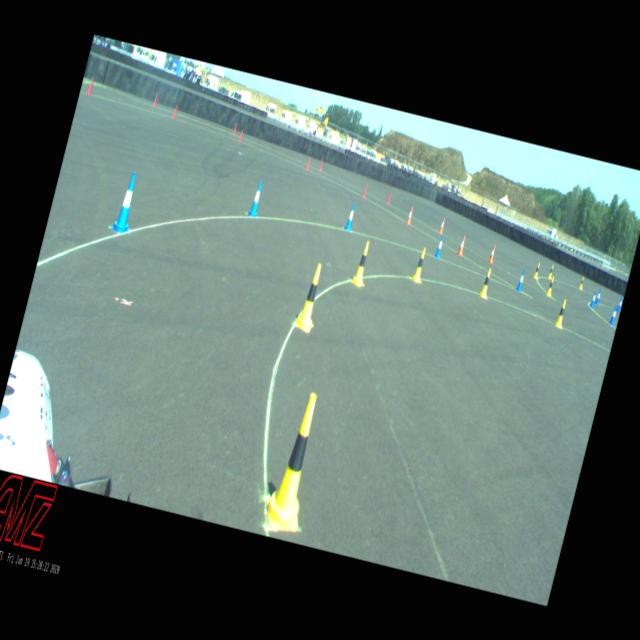blue_cone: (110, 170, 142, 234), (247, 178, 264, 218), (344, 202, 356, 230), (515, 268, 526, 292), (434, 234, 444, 258), (608, 304, 618, 326), (589, 290, 597, 308), (616, 296, 624, 312), (594, 288, 602, 304)
orange_cone: (456, 234, 466, 256), (488, 244, 497, 264), (406, 207, 414, 224), (438, 217, 446, 233)
unknown_cone: (86, 77, 95, 95), (362, 184, 368, 198), (152, 92, 158, 106), (238, 128, 244, 142), (172, 105, 178, 118), (304, 157, 310, 170), (386, 191, 391, 204), (318, 158, 323, 171), (232, 122, 237, 134)
yellow_cone: (260, 388, 330, 535), (294, 262, 326, 334), (350, 239, 373, 287), (411, 246, 428, 282), (478, 266, 493, 298), (554, 298, 568, 328), (546, 276, 556, 297), (532, 262, 540, 278), (547, 264, 554, 278), (578, 276, 585, 288)
